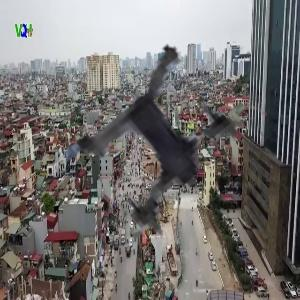drone: (58, 36, 282, 260)
